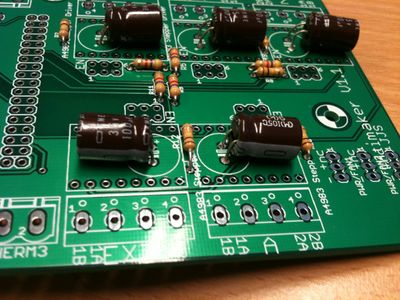capacitor: (77, 112, 152, 162), (231, 114, 301, 162), (209, 7, 269, 49), (106, 6, 163, 46), (302, 13, 360, 52)
resistor: (181, 122, 196, 152), (134, 57, 163, 69), (168, 74, 181, 98), (257, 66, 284, 77), (153, 70, 165, 93), (169, 48, 181, 69), (256, 59, 281, 69), (59, 18, 70, 39)
